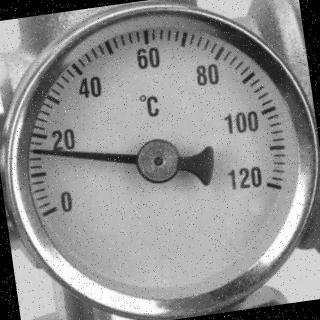gauge: (0, 0, 320, 320), (133, 136, 183, 187), (253, 164, 289, 206), (39, 196, 71, 226), (29, 142, 48, 160)
